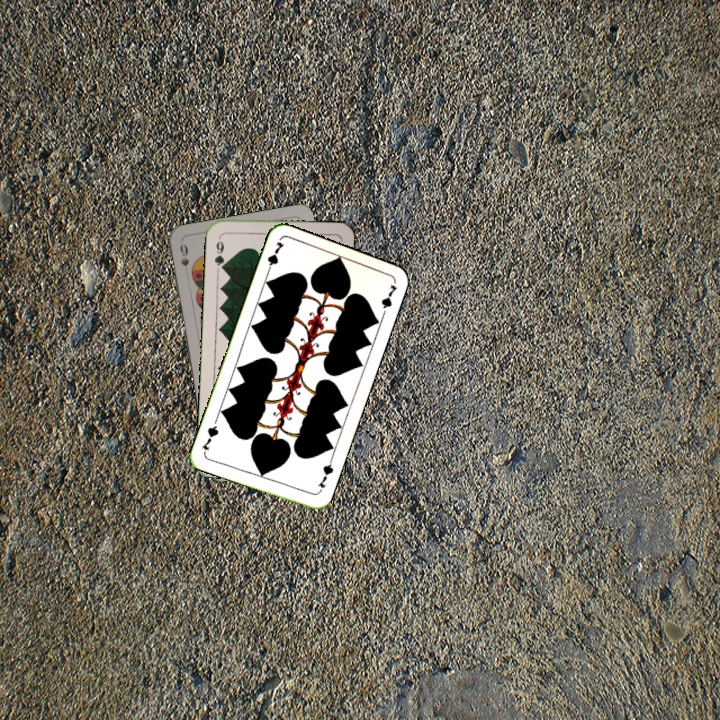G7: (263, 237, 287, 277), (314, 456, 336, 495)
G9: (210, 232, 227, 273)
S9: (176, 239, 191, 277)
